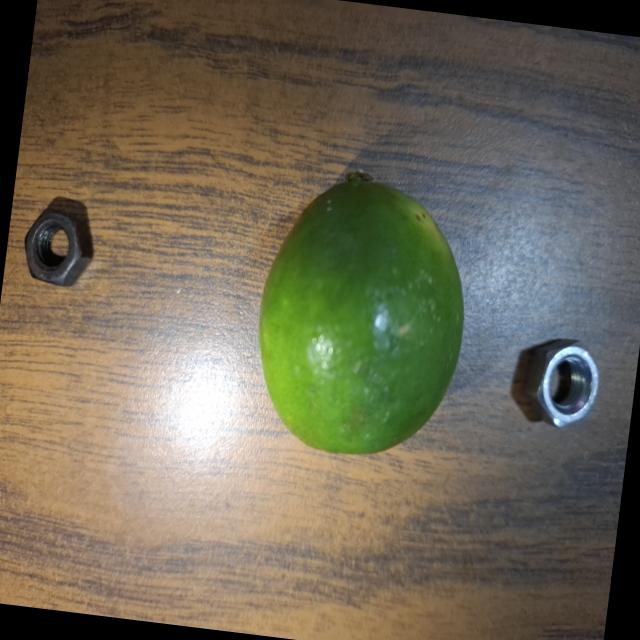limon: (240, 158, 482, 468)
milimetrico: (14, 198, 106, 288)
tuerca: (518, 322, 609, 440)
